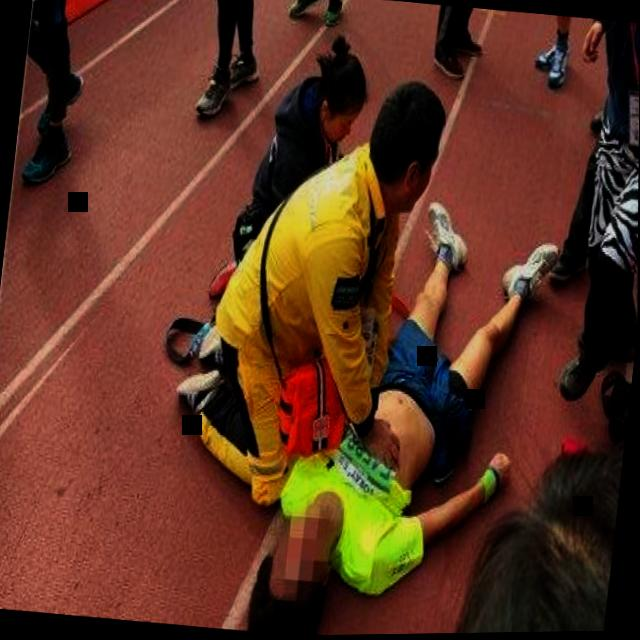Fall-Detected: (216, 159, 543, 637)
